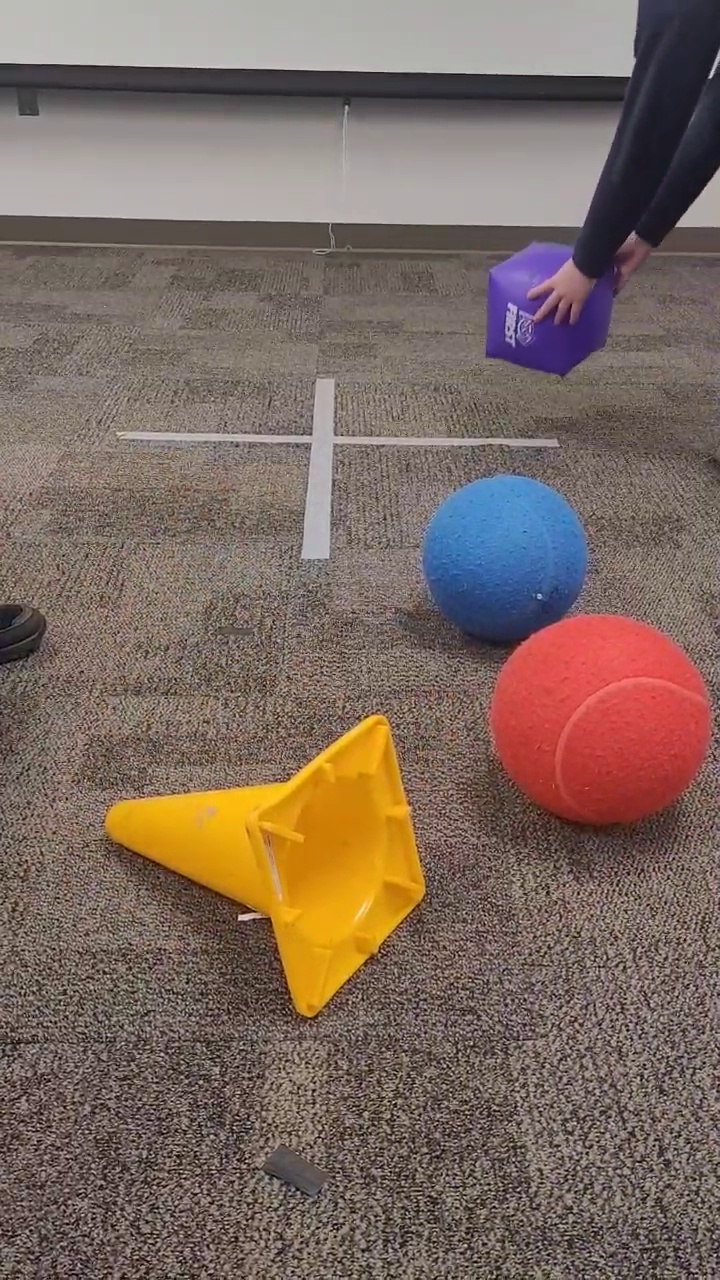ball: (486, 610, 713, 829), (419, 471, 589, 640)
cone: (98, 707, 431, 1023)
cube: (481, 234, 620, 379)
foot: (1, 591, 52, 670)
hand: (524, 254, 603, 331), (608, 221, 656, 279)
